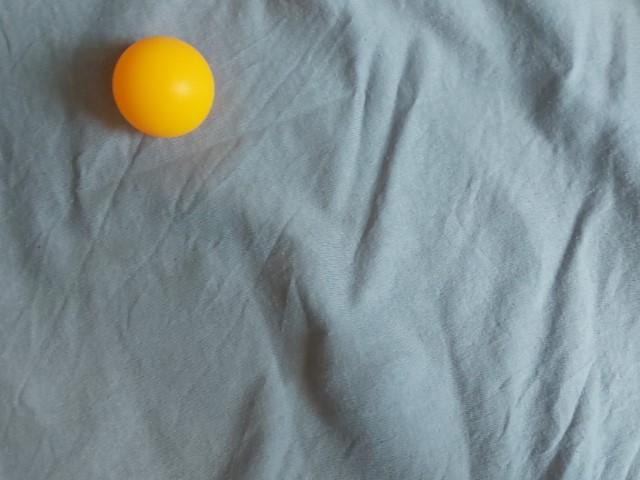oball: (418, 335, 535, 450)
